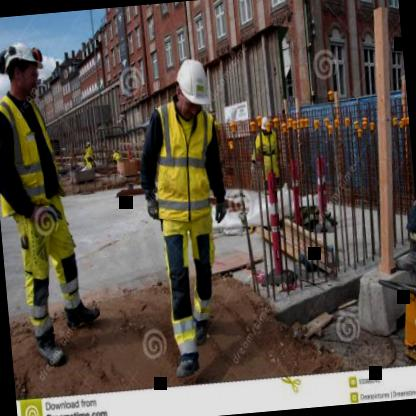helmet: (0, 33, 49, 102), (170, 52, 212, 124), (258, 114, 274, 138)
